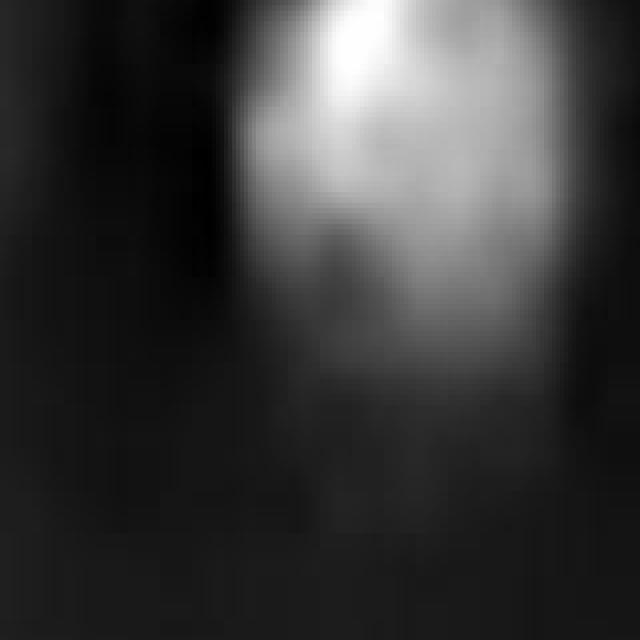person: (217, 1, 581, 449)
